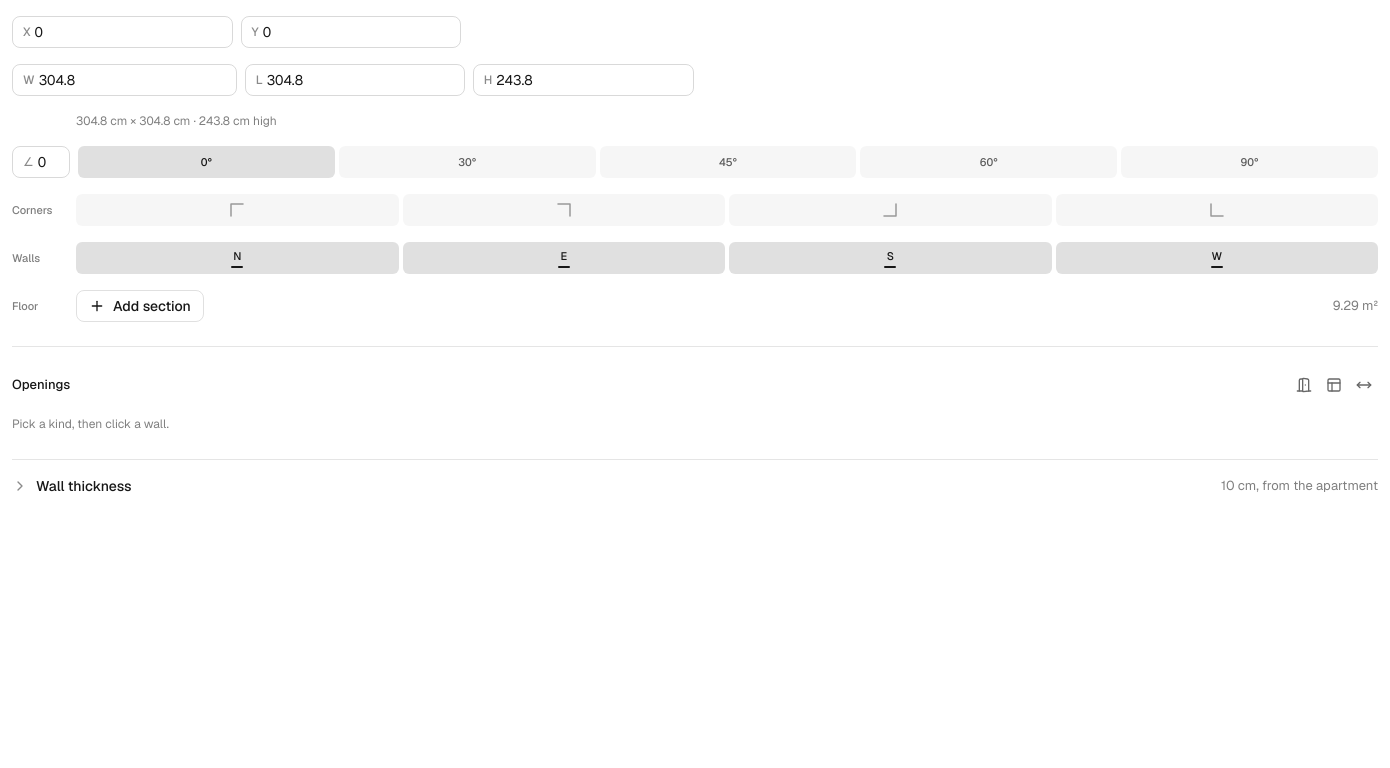
Scenario: a room's own wall thickness › opens onto the inherited number rather than an empty box
Click the button "Wall thickness 10 cm, from the apartment" at (84,486), box [12, 476, 1378, 496]
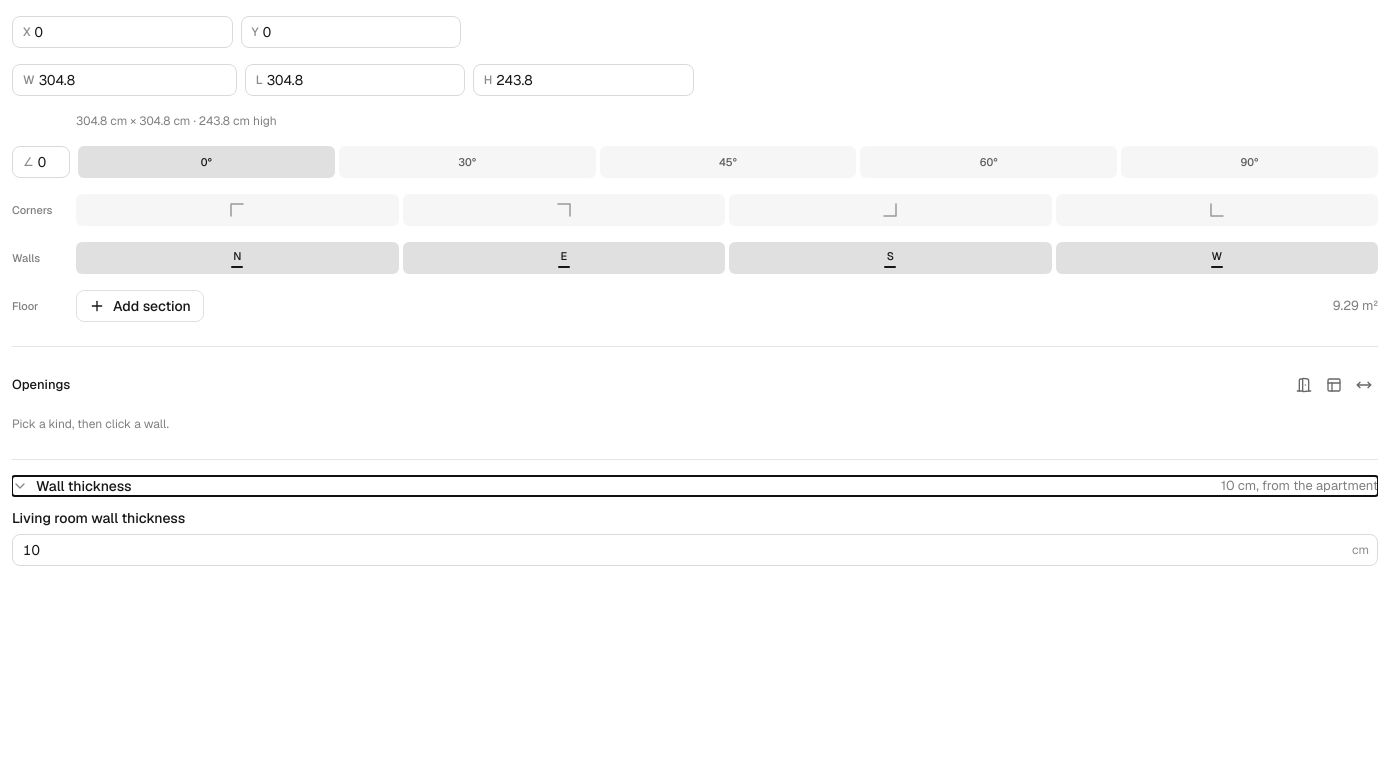
Result: the button "Wall thickness 10 cm, from the apartment" is expanded at [12, 476, 1378, 496]
Result: the field labelled "Living room wall thickness" holds "10" at [13, 534, 1352, 564]
